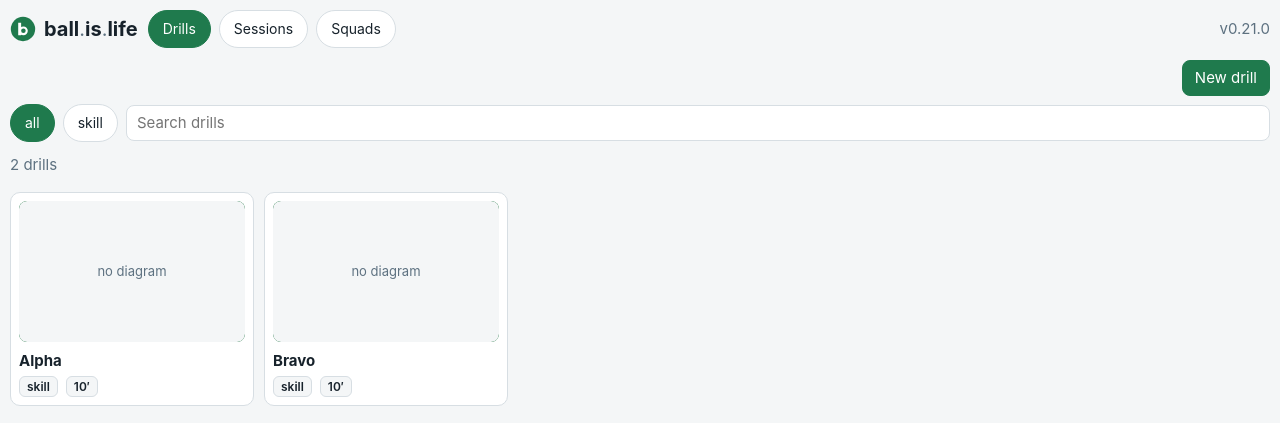
it: App › opens a drill and shows its text
This screenshot has width=1280, height=423.
Click the button "no diagram Alpha skill 10′": (132, 299) [10, 192, 254, 406]
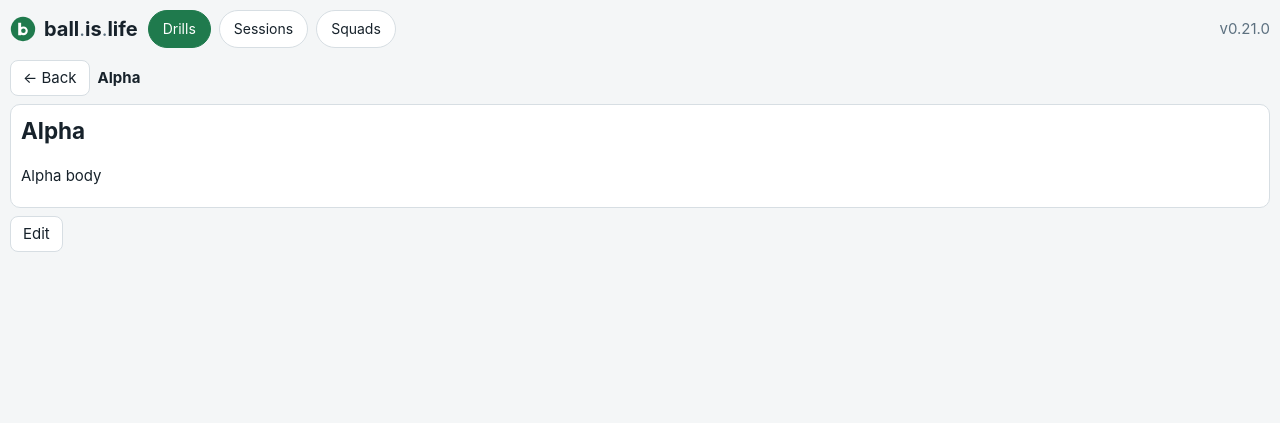
Now the text "Alpha body" is shown, box [21, 166, 102, 185]
